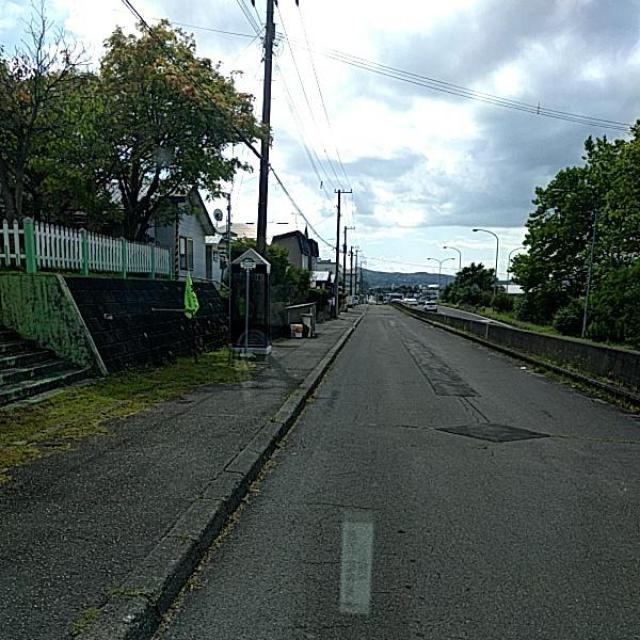Crack: (46, 315, 386, 640), (387, 324, 565, 491)
